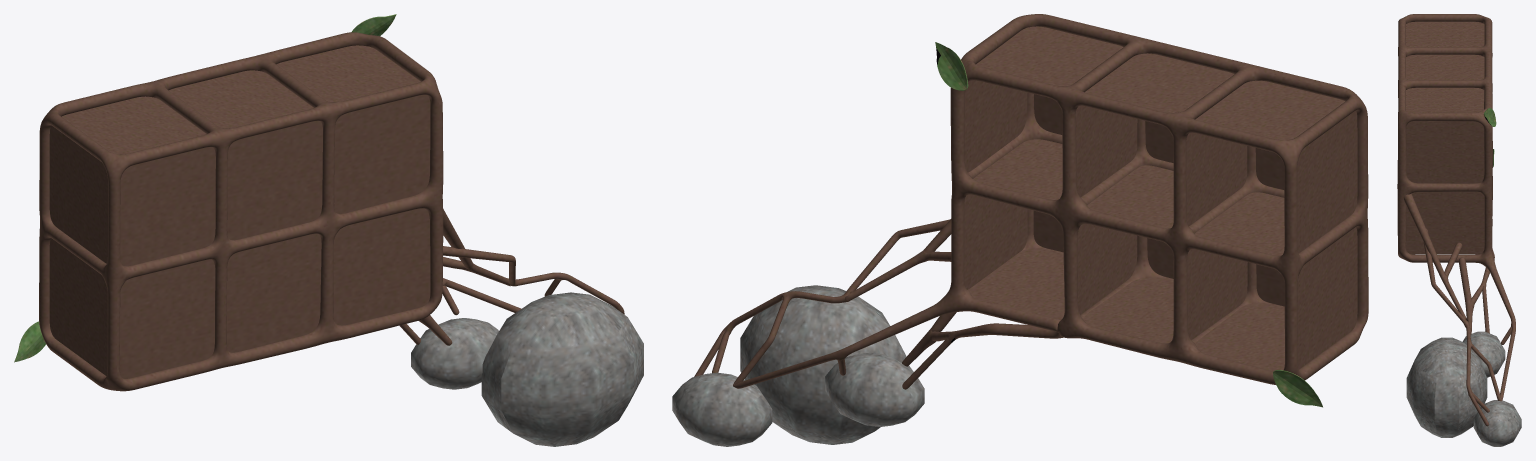
File: EarthSpirit_InventoryShelf Merged.glb
3 renders of one model, left to right at view 1: azimuth 30°, elevation 25°; view 2: azimuth 150°, elevation 25°; view 3: azimuth 270°, elevation 25°, orthographic. The views are drawn at different scales.
Visible parts, largest first — view 1: leaves.001; view 2: leaves.001; view 3: leaves.001.
Boxes of the visible parts, x1,y1,x2,y2 form: leaves.001: (14, 14, 643, 446); leaves.001: (672, 14, 1368, 446); leaves.001: (1397, 14, 1521, 446).
Bounding box in the file's own units: 28.91 × 19.66 × 8.
Materials: 1 (1 with a texture image).
